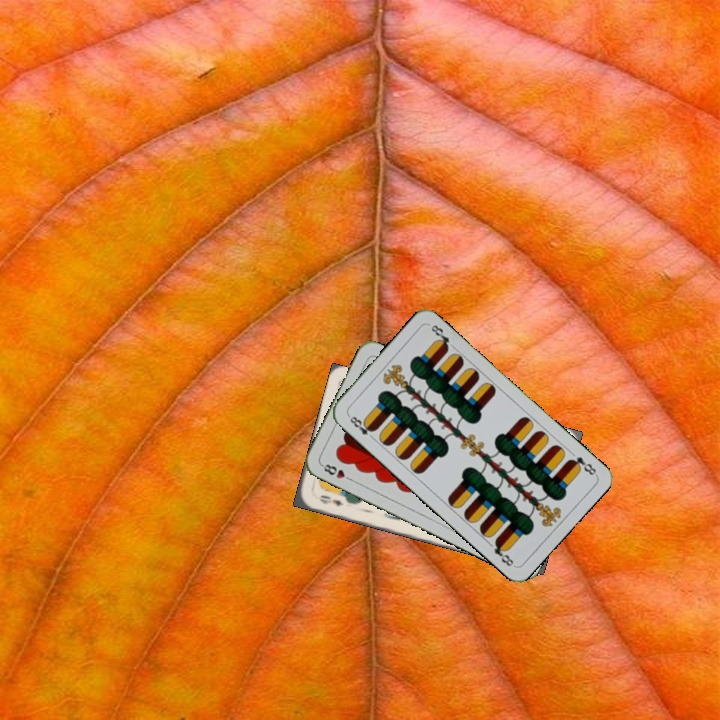E8: (344, 411, 378, 442), (565, 452, 599, 478)
EO: (316, 491, 346, 509)
H8: (317, 460, 355, 484)
